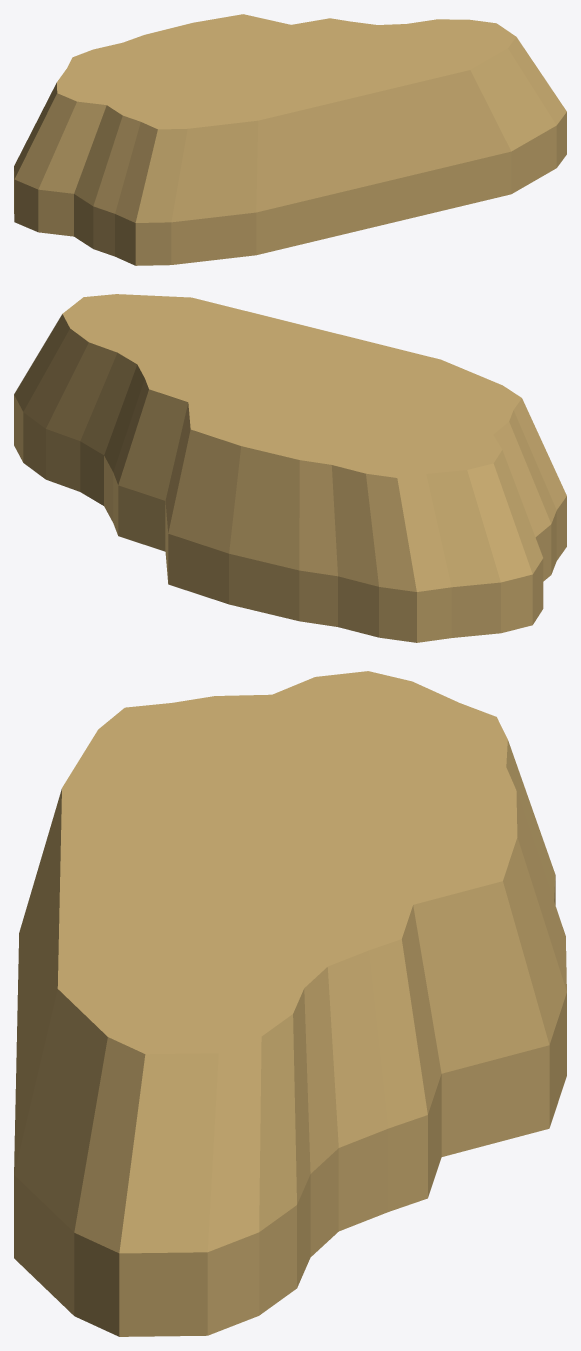
File: RedObstacle2.fbx
3 views of the same model, one above another, from view 1: azimuth 30°, elevation 25°; view 2: azimuth 150°, elevation 25°; view 3: azimuth 270°, elevation 25° (orthographic). The views are drawn at different scales.
Parts seen in each view (by area): view 1: RedObstacle2; view 2: RedObstacle2; view 3: RedObstacle2.
Part boxes in pixels (x1,y1,x2,y2): RedObstacle2: (14,14,566,265); RedObstacle2: (14,294,566,642); RedObstacle2: (14,671,566,1336).
Bounding box in the file's own units: 6.09 × 1.48 × 3.09.
